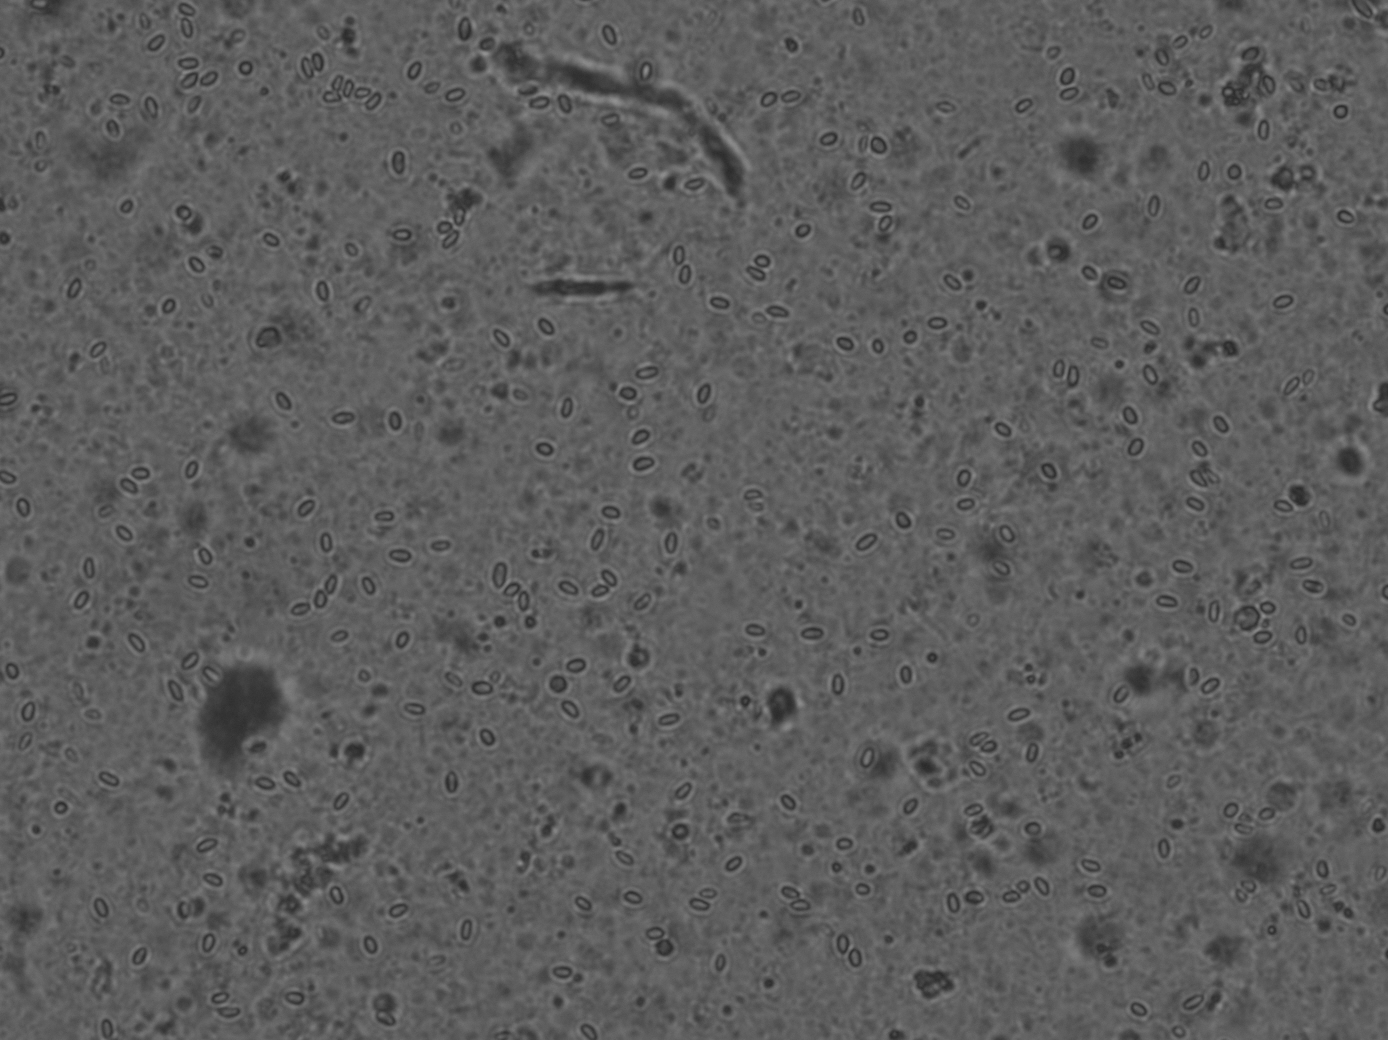spore: (852, 529, 881, 554), (557, 695, 583, 721), (190, 834, 220, 856), (608, 671, 634, 696), (123, 629, 149, 655), (1196, 673, 1223, 697), (164, 676, 187, 705), (293, 495, 318, 520), (533, 314, 558, 339), (1179, 272, 1205, 297), (329, 788, 353, 814), (1124, 434, 1148, 460), (475, 724, 499, 749), (111, 521, 137, 545), (271, 388, 295, 413), (85, 336, 110, 361), (489, 324, 513, 350), (939, 270, 964, 294), (95, 768, 122, 790), (63, 274, 85, 302), (489, 559, 509, 589), (185, 252, 209, 276), (1056, 63, 1079, 88), (628, 425, 653, 448), (1209, 412, 1232, 437), (1118, 402, 1141, 427), (1181, 991, 1207, 1013), (598, 21, 620, 47), (555, 577, 581, 599), (178, 650, 202, 673), (144, 32, 168, 55), (128, 944, 151, 968), (202, 664, 226, 687), (403, 58, 425, 83), (612, 847, 637, 868), (384, 899, 411, 920), (693, 380, 714, 406), (588, 525, 607, 553), (281, 768, 304, 791), (776, 790, 799, 813), (1188, 437, 1211, 460), (867, 134, 891, 156), (359, 932, 381, 956), (990, 418, 1015, 440), (833, 332, 857, 354), (791, 218, 815, 240), (17, 699, 38, 724), (358, 572, 379, 598), (630, 452, 655, 473), (1005, 705, 1032, 723), (1288, 554, 1315, 572), (1111, 683, 1132, 706), (631, 591, 654, 613), (571, 893, 594, 914), (899, 794, 921, 817), (1333, 205, 1356, 227), (1241, 43, 1264, 64), (950, 191, 973, 213), (91, 897, 111, 921), (965, 759, 989, 780), (117, 475, 141, 496), (325, 883, 346, 907), (13, 495, 34, 519), (1183, 493, 1207, 513), (287, 599, 312, 618), (1270, 292, 1295, 311), (441, 85, 467, 104), (1079, 211, 1101, 233), (899, 326, 921, 347), (440, 229, 462, 251), (1032, 875, 1053, 898), (1189, 469, 1210, 492), (198, 69, 221, 90), (1200, 465, 1223, 486), (817, 128, 840, 149), (1127, 998, 1150, 1019), (1138, 318, 1162, 338), (201, 870, 225, 889), (563, 655, 588, 675), (1141, 363, 1160, 388), (707, 293, 732, 311), (655, 710, 681, 728), (1221, 800, 1242, 822), (1329, 101, 1351, 121), (158, 295, 179, 317), (363, 91, 384, 111), (1294, 898, 1314, 921), (1058, 84, 1081, 104), (1152, 46, 1172, 69), (2, 659, 22, 682), (392, 628, 412, 651), (953, 466, 973, 489), (181, 458, 201, 481), (944, 890, 962, 914), (634, 364, 660, 381), (1300, 577, 1325, 594), (388, 546, 413, 564), (724, 853, 745, 874), (893, 510, 914, 531), (179, 70, 200, 91), (60, 744, 81, 765), (341, 238, 361, 259), (72, 589, 92, 611), (990, 557, 1012, 577), (847, 170, 867, 192), (103, 117, 122, 139), (402, 700, 428, 717), (969, 729, 990, 748), (1080, 856, 1103, 875), (849, 5, 867, 28), (199, 931, 217, 954), (962, 800, 985, 818), (533, 439, 556, 458), (375, 1009, 398, 1028), (1154, 592, 1178, 610), (1170, 557, 1194, 575), (598, 504, 622, 521), (313, 279, 331, 303), (1039, 460, 1058, 481), (1282, 376, 1302, 397), (1043, 42, 1064, 61), (1013, 96, 1035, 115), (1156, 79, 1178, 97), (858, 746, 876, 769), (621, 888, 644, 906), (330, 410, 356, 425), (743, 622, 767, 638), (558, 395, 574, 419), (1010, 878, 1031, 897), (16, 731, 35, 752), (852, 879, 873, 898), (617, 383, 638, 402), (117, 196, 135, 216), (459, 917, 474, 942), (256, 775, 277, 792), (1168, 34, 1190, 51), (758, 91, 780, 108), (745, 264, 767, 282), (557, 93, 574, 115), (329, 627, 351, 645), (626, 165, 649, 181), (1251, 629, 1274, 646), (391, 149, 405, 175), (144, 96, 159, 120), (443, 769, 459, 793), (1146, 193, 1161, 217), (0, 389, 19, 409), (1196, 23, 1215, 42), (1288, 75, 1307, 94), (674, 781, 693, 800), (501, 581, 521, 600), (1238, 877, 1259, 895), (580, 1023, 601, 1040), (197, 546, 214, 567), (954, 496, 976, 512), (387, 410, 403, 432), (1272, 498, 1295, 513), (1196, 159, 1211, 182), (318, 531, 333, 554), (997, 524, 1016, 543), (355, 666, 373, 685), (354, 295, 372, 314), (1080, 264, 1100, 282), (1139, 71, 1156, 91), (444, 671, 464, 688), (847, 947, 864, 968), (1106, 274, 1127, 291), (1042, 245, 1063, 261), (188, 575, 210, 590), (179, 17, 194, 39), (1155, 837, 1171, 859), (373, 509, 395, 524), (310, 50, 325, 72), (459, 16, 472, 42), (324, 572, 339, 595), (527, 95, 550, 109), (830, 673, 844, 696), (82, 556, 96, 579), (876, 214, 893, 233), (1340, 611, 1359, 628), (602, 569, 619, 588), (1257, 806, 1277, 823), (262, 232, 282, 248), (510, 387, 530, 403), (781, 885, 800, 901), (178, 2, 198, 19), (285, 991, 306, 1006), (472, 681, 493, 696), (781, 90, 802, 105), (1261, 74, 1277, 95), (1315, 859, 1330, 879), (1262, 196, 1283, 211), (1208, 600, 1221, 624), (1025, 742, 1040, 764), (1089, 336, 1111, 351), (177, 56, 199, 70), (868, 627, 890, 641), (926, 316, 948, 330), (664, 532, 677, 555), (97, 503, 117, 518), (187, 94, 202, 114), (210, 992, 230, 1006), (936, 101, 957, 115), (639, 61, 653, 82), (300, 57, 315, 78), (688, 898, 710, 911), (429, 539, 451, 552), (442, 358, 464, 371), (590, 583, 608, 599), (1301, 368, 1316, 387), (834, 836, 853, 851), (870, 336, 886, 355), (553, 966, 572, 980), (1053, 359, 1067, 379), (601, 113, 620, 127), (423, 81, 442, 95), (138, 11, 152, 31), (899, 664, 913, 684), (703, 403, 717, 423), (218, 1005, 241, 1017), (768, 305, 788, 318), (685, 177, 705, 190), (0, 469, 16, 485), (964, 890, 983, 905), (1318, 510, 1332, 529), (1234, 820, 1253, 835), (646, 926, 666, 939), (800, 627, 823, 638), (1188, 307, 1200, 328), (673, 245, 685, 265), (679, 264, 691, 285), (1088, 885, 1106, 898), (102, 1019, 114, 1039), (1295, 625, 1307, 645), (936, 529, 956, 541), (981, 740, 998, 753), (715, 952, 726, 972), (1068, 366, 1079, 387), (394, 228, 413, 240), (1259, 602, 1278, 614), (1319, 883, 1338, 895), (744, 489, 763, 500), (871, 201, 891, 212), (1188, 666, 1199, 686), (214, 353, 230, 366), (751, 311, 768, 324), (1004, 890, 1021, 902), (453, 209, 465, 226), (792, 900, 810, 911), (754, 255, 770, 267), (1259, 120, 1269, 140), (343, 80, 354, 97), (332, 74, 343, 92), (838, 935, 849, 953), (699, 887, 716, 898), (111, 95, 130, 105), (747, 500, 766, 510), (132, 469, 151, 478), (323, 92, 341, 102), (674, 681, 684, 697), (519, 592, 529, 608), (317, 591, 325, 608), (355, 87, 370, 97)
